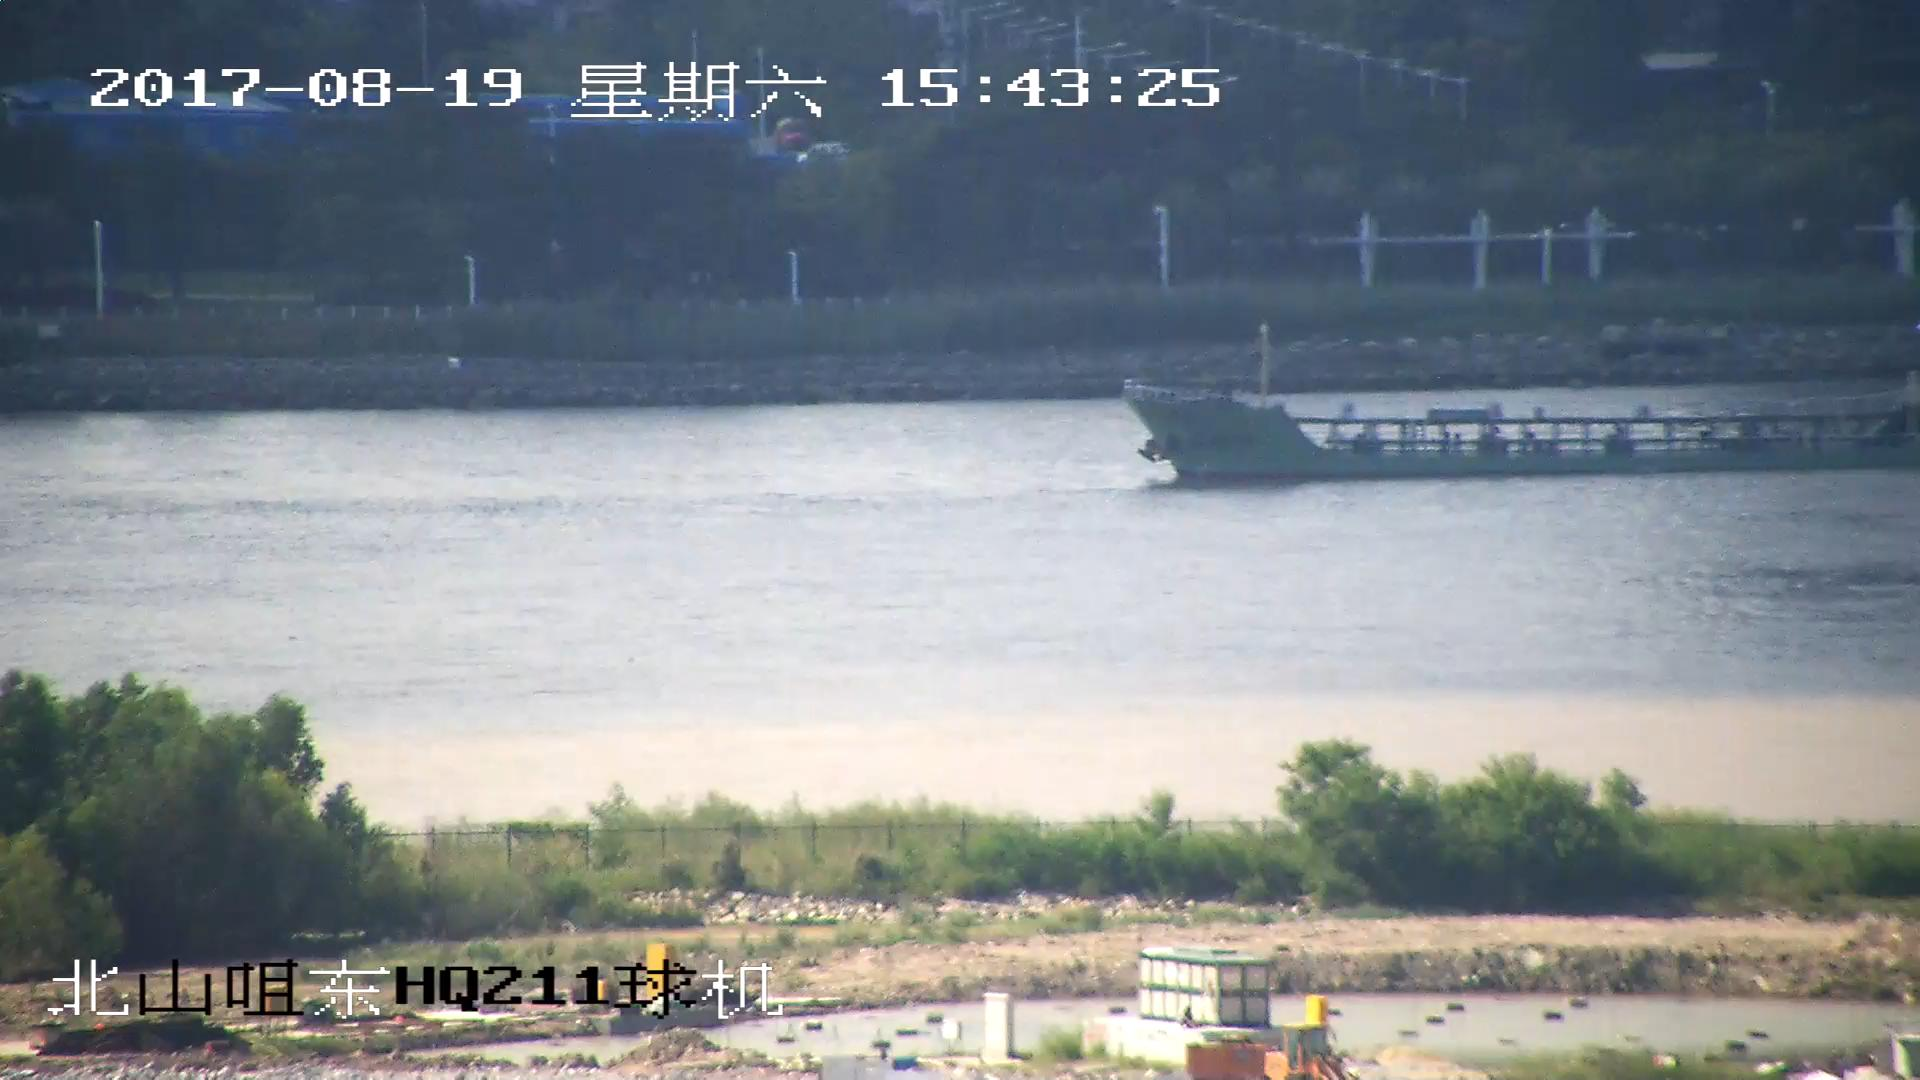general cargo ship: (1129, 326, 1920, 482)
